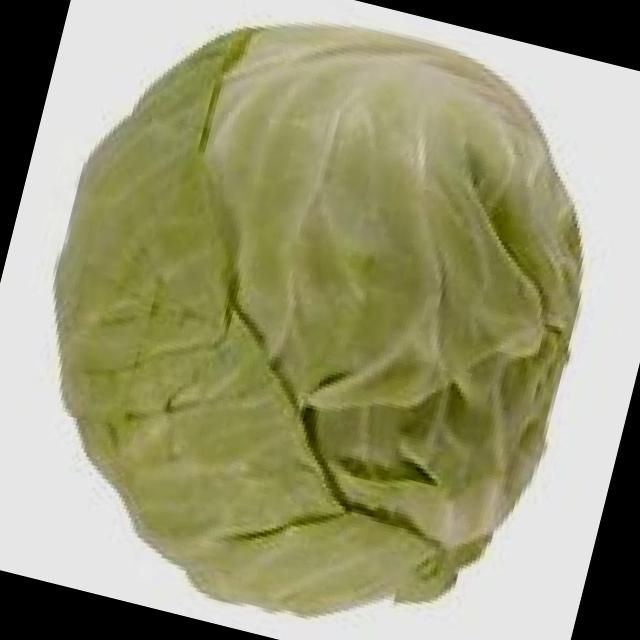cabbage: (54, 22, 587, 619)
